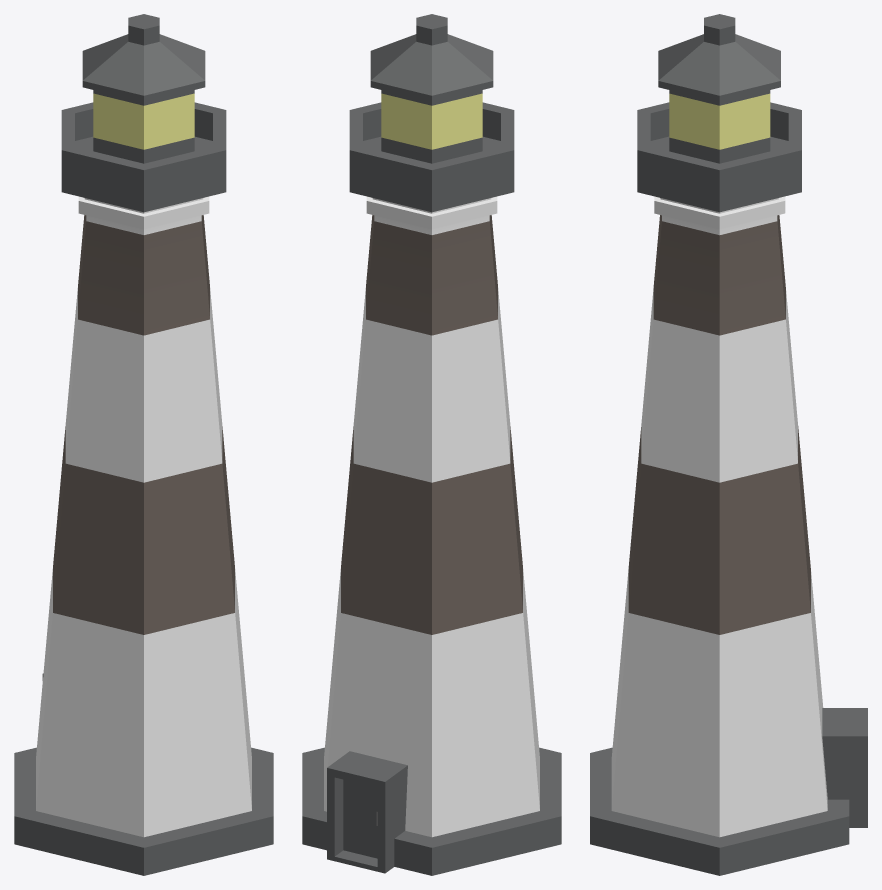
Rendered from Lighthouse_01.fbx.
3 views of the same model, side by side, from view 1: azimuth 30°, elevation 25°; view 2: azimuth 150°, elevation 25°; view 3: azimuth 270°, elevation 25° (orthographic).
Parts seen in each view (by area): view 1: SA_Bld_Lighthouse_01; view 2: SA_Bld_Lighthouse_01; view 3: SA_Bld_Lighthouse_01.
Boxes of the visible parts, <box> form: SA_Bld_Lighthouse_01: <box>14,14,273,875</box>; SA_Bld_Lighthouse_01: <box>302,14,561,875</box>; SA_Bld_Lighthouse_01: <box>590,14,867,875</box>.
Bounding box in the file's own units: 1296 × 3781 × 1203.
